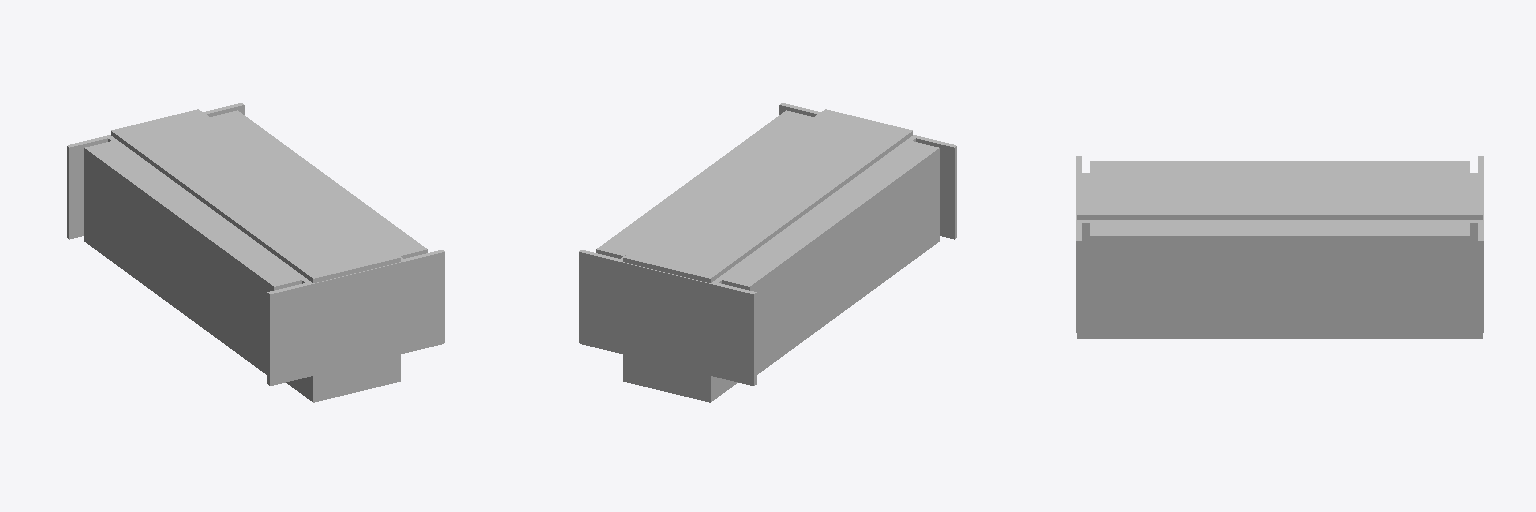
File: 1x1_hotel_hallway_z.obj
The picture shows the model from 3 angles: view 1: azimuth 30°, elevation 25°; view 2: azimuth 150°, elevation 25°; view 3: azimuth 270°, elevation 25°; orthographic projection.
Visible parts, largest first — view 1: UCX_1x1_hotel_room_straight_z_00.001, UCX_1x1_hotel_hallway_z_09, UCX_1x1_hotel_hallway_z_02, UCX_1x1_hotel_hallway_z_01, 2x1_hotel_hallway, UCX_1x1_hotel_hallway_z_00, UCX_1x1_hotel_hallway_z_03; view 2: UCX_1x1_hotel_room_straight_z_00.001, UCX_1x1_hotel_hallway_z_09, UCX_1x1_hotel_hallway_z_04, UCX_1x1_hotel_hallway_z_06, 2x1_hotel_hallway, UCX_1x1_hotel_hallway_z_00, UCX_1x1_hotel_hallway_z_05, UCX_1x1_hotel_hallway_z_02; view 3: UCX_1x1_hotel_room_straight_z_00.001, UCX_1x1_hotel_hallway_z_09, UCX_1x1_hotel_hallway_z_00, UCX_1x1_hotel_hallway_z_08, 2x1_hotel_hallway.
Boxes of the visible parts, box(x1,y1,x2,y2) form: UCX_1x1_hotel_room_straight_z_00.001: box(84, 110, 427, 374); UCX_1x1_hotel_hallway_z_09: box(111, 109, 400, 282); UCX_1x1_hotel_hallway_z_02: box(269, 277, 339, 385); UCX_1x1_hotel_hallway_z_01: box(375, 250, 443, 360); 2x1_hotel_hallway: box(67, 103, 444, 385); UCX_1x1_hotel_hallway_z_00: box(286, 356, 400, 402); UCX_1x1_hotel_hallway_z_03: box(340, 269, 374, 304); UCX_1x1_hotel_room_straight_z_00.001: box(596, 110, 939, 374); UCX_1x1_hotel_hallway_z_09: box(623, 109, 912, 282); UCX_1x1_hotel_hallway_z_04: box(684, 277, 753, 385); UCX_1x1_hotel_hallway_z_06: box(580, 251, 648, 360); 2x1_hotel_hallway: box(579, 103, 956, 385); UCX_1x1_hotel_hallway_z_00: box(623, 356, 737, 402); UCX_1x1_hotel_hallway_z_05: box(649, 269, 683, 304); UCX_1x1_hotel_hallway_z_02: box(911, 135, 954, 232); UCX_1x1_hotel_room_straight_z_00.001: box(1090, 161, 1469, 329); UCX_1x1_hotel_hallway_z_09: box(1077, 173, 1482, 219); UCX_1x1_hotel_hallway_z_00: box(1077, 314, 1482, 338); UCX_1x1_hotel_hallway_z_08: box(1080, 220, 1482, 313); 2x1_hotel_hallway: box(1077, 219, 1482, 332).
Size of the model in its own units: 20 by 13.5 by 40.2.